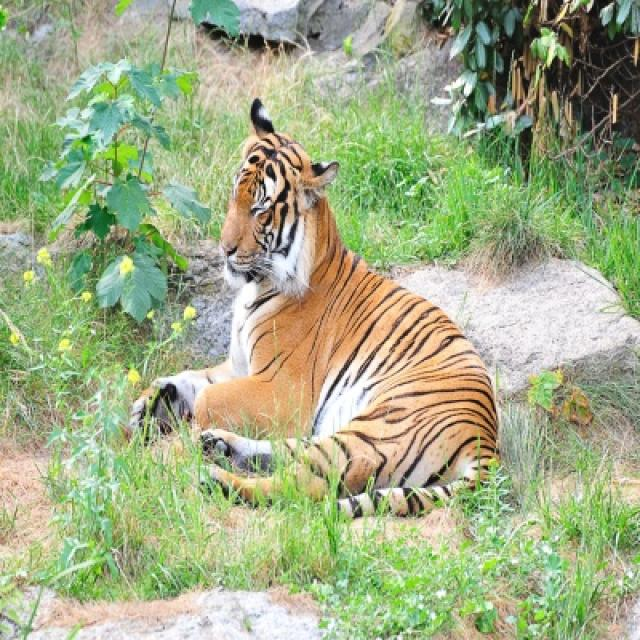Tiger: (138, 101, 502, 519)
